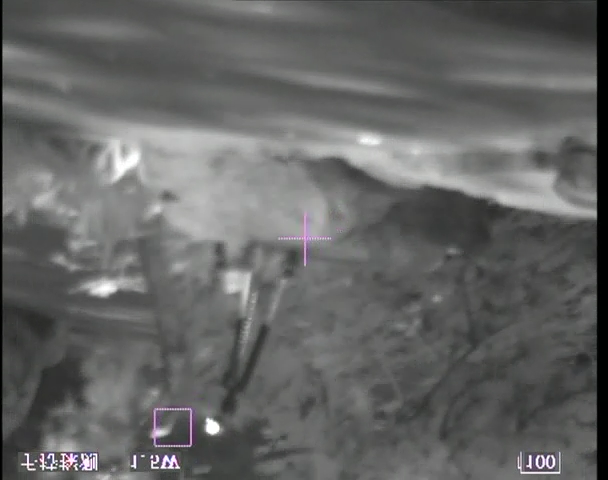my: (203, 418, 219, 436)
